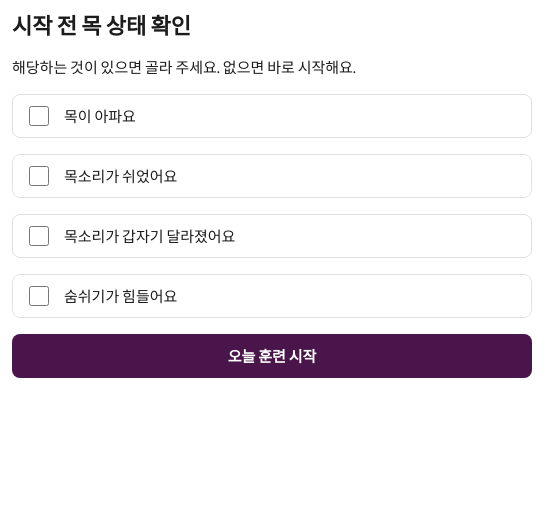
Test case: 화면 › 숨쉬기 곤란 선택 시 즉시 도움 안내
This screenshot has width=549, height=523.
Click the checkbox labelled "숨쉬기가 힘들어요" at (39, 296), box [29,286,49,306]
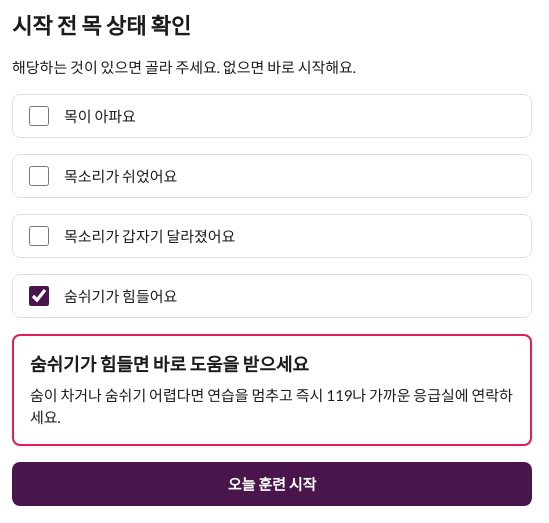
expect the message shows "119": met, box [12,334,532,446]
